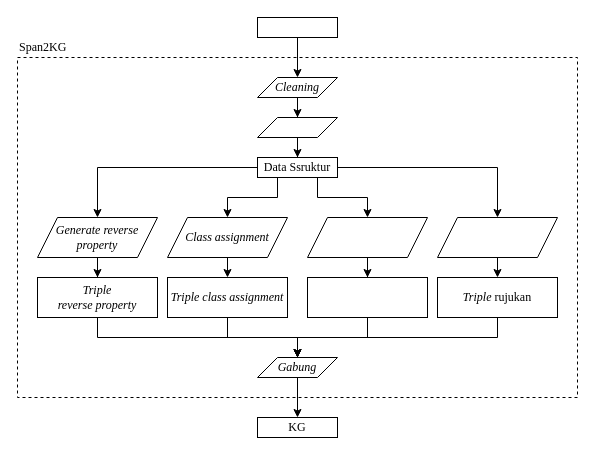
This 595x455 diagram has some shape labels left out. Each missing label, with the centre of its shape:
"Deteksi Rujukan" goes at (x=497, y=237).
"Konstruksi triple" goes at (x=367, y=237).
"Parsing" goes at (x=297, y=127).
"Span" goes at (x=297, y=27).
"Triple struktur" goes at (x=367, y=297).
